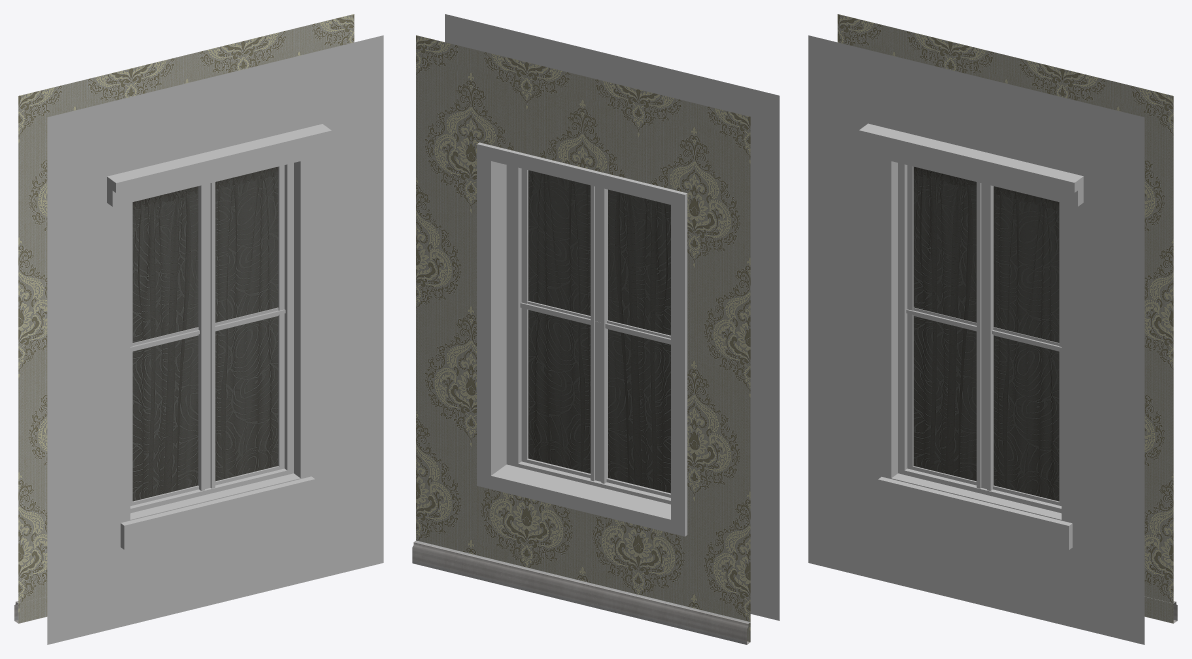
Rendered from House_07_Windows_05.fbx.
3 views of the same model, side by side, from view 1: azimuth 30°, elevation 25°; view 2: azimuth 150°, elevation 25°; view 3: azimuth 330°, elevation 25° (orthographic).
Parts seen in each view (by area): view 1: House_07_Windows_05_LOD0; view 2: House_07_Windows_05_LOD0; view 3: House_07_Windows_05_LOD0.
Boxes of the visible parts, x1,y1,x2,y2 form: House_07_Windows_05_LOD0: [14, 14, 383, 644]; House_07_Windows_05_LOD0: [412, 14, 779, 644]; House_07_Windows_05_LOD0: [808, 14, 1177, 644].
Size of what is drawn, in the model's own units: 200 by 300 by 43.29.
